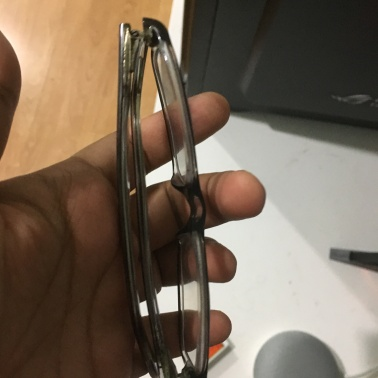glasses: (90, 25, 227, 378)
